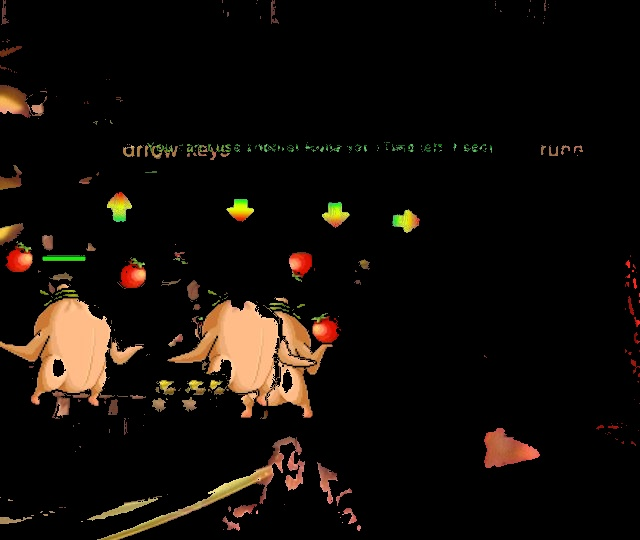down: (316, 198, 354, 234), (223, 195, 257, 227)
right: (389, 207, 428, 238)
up: (103, 188, 137, 227)
